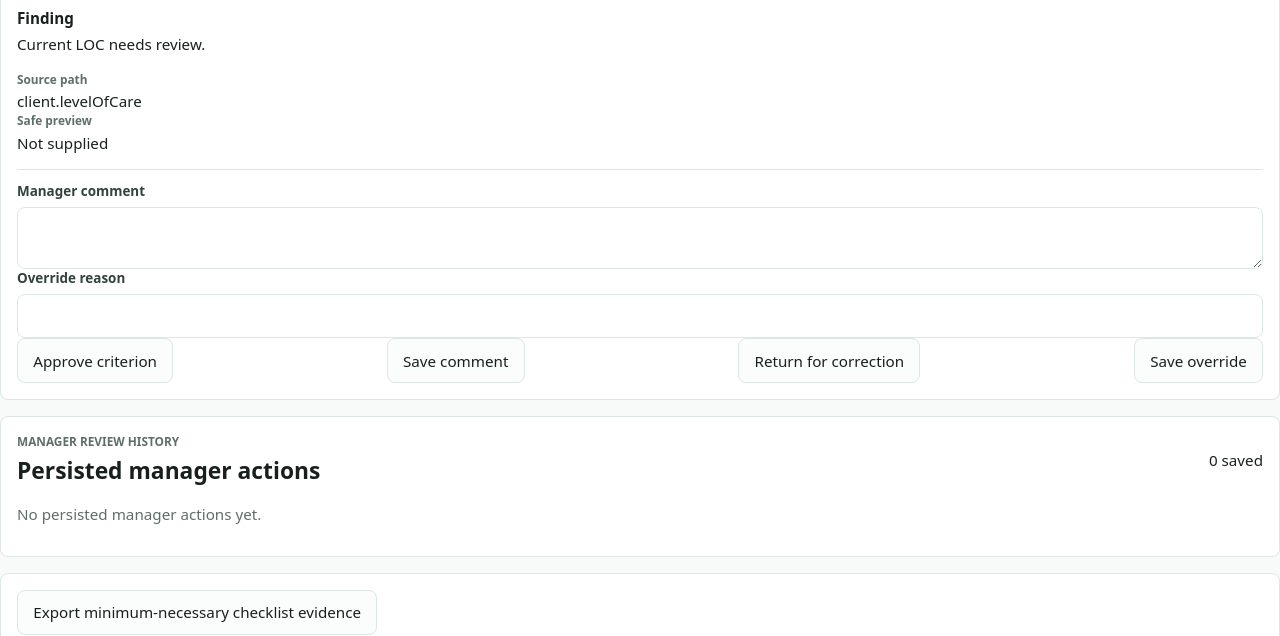
it: Treatment Plan Detail selection › keeps Return for correction neutral until clicked and submits the selected criterion
(page scrolled)
Click the button "Return for correction".
click(829, 361)  # box [738, 338, 920, 383]
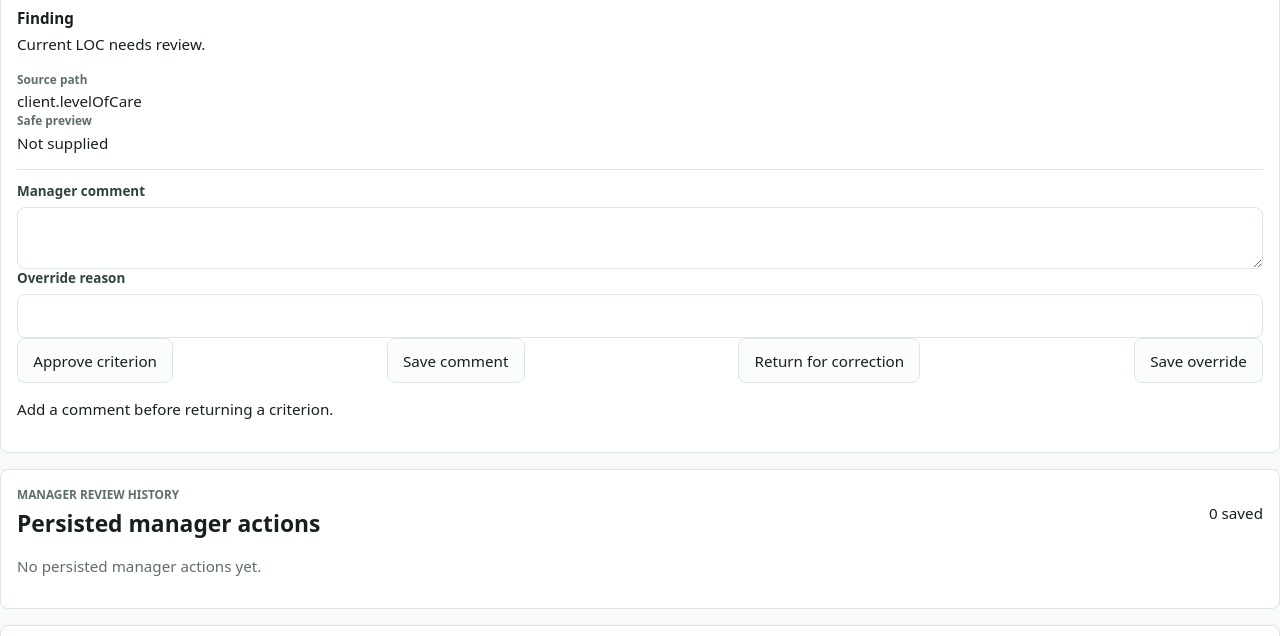
Expected: the message reads "Add a comment before returning a criterion.", [17, 399, 333, 419]
Type "Please correct the current LOC evidence." into the text box labelled "Manager comment".
click(640, 238); type("Please correct the current LOC evidence.")  # box [17, 207, 1263, 269]
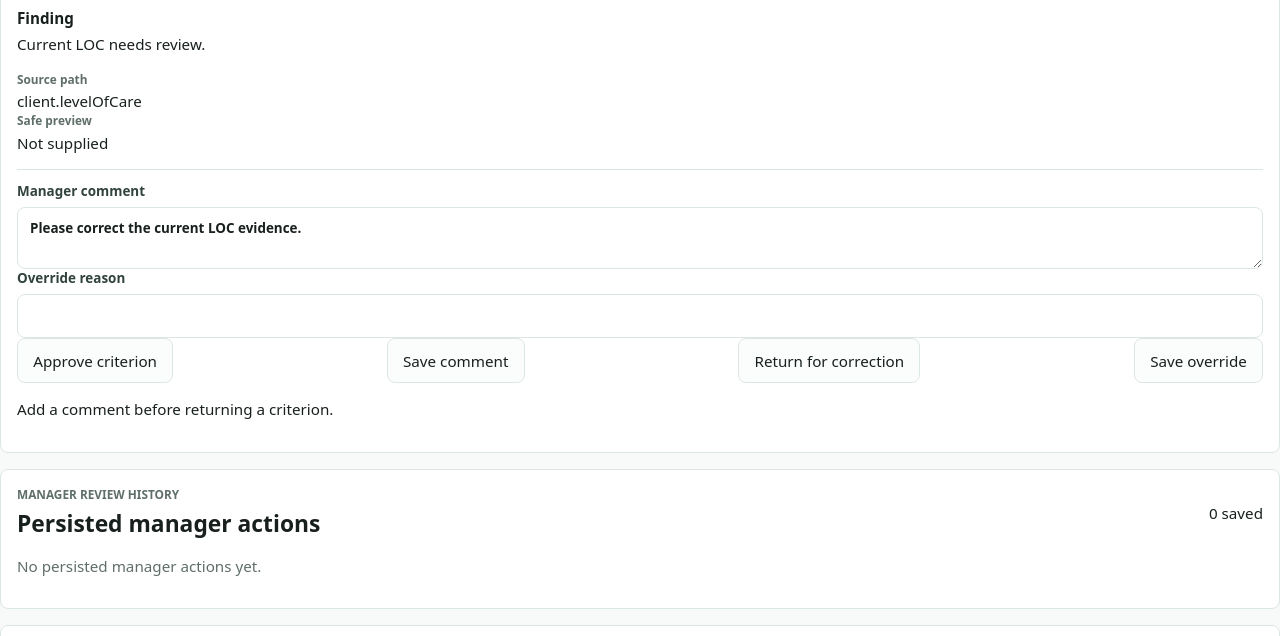
Click the button "Return for correction".
click(829, 361)  # box [738, 338, 920, 383]
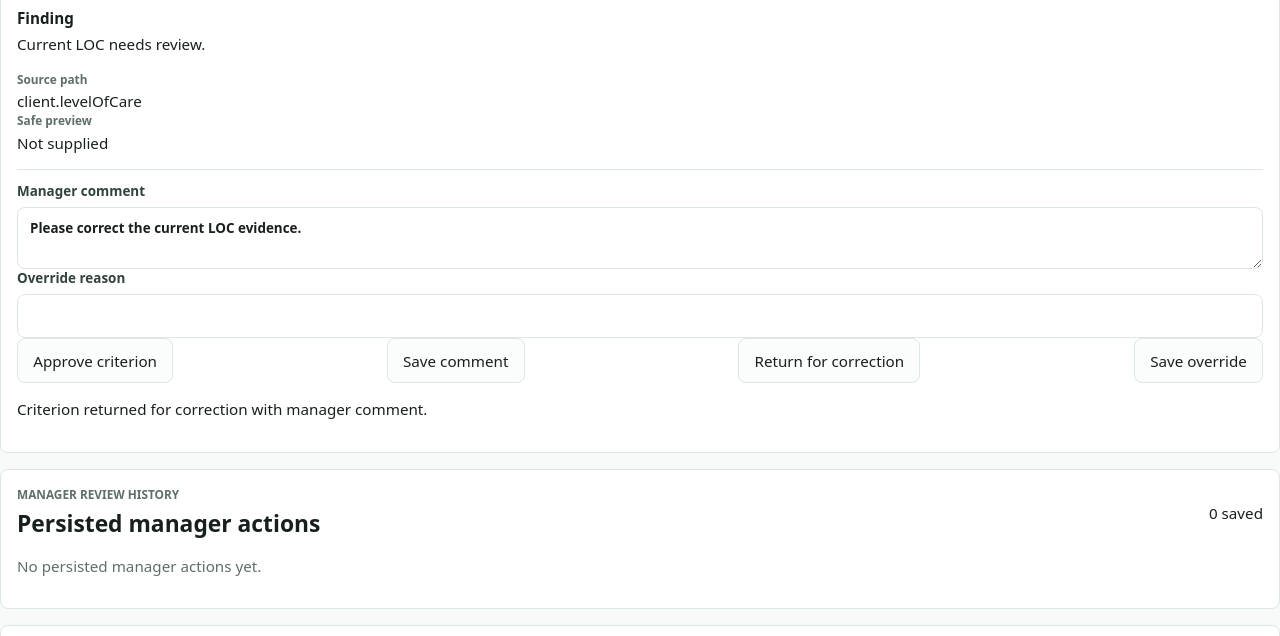
Expected: the message reads "Criterion returned for correction with manager comment.", [17, 399, 427, 419]
